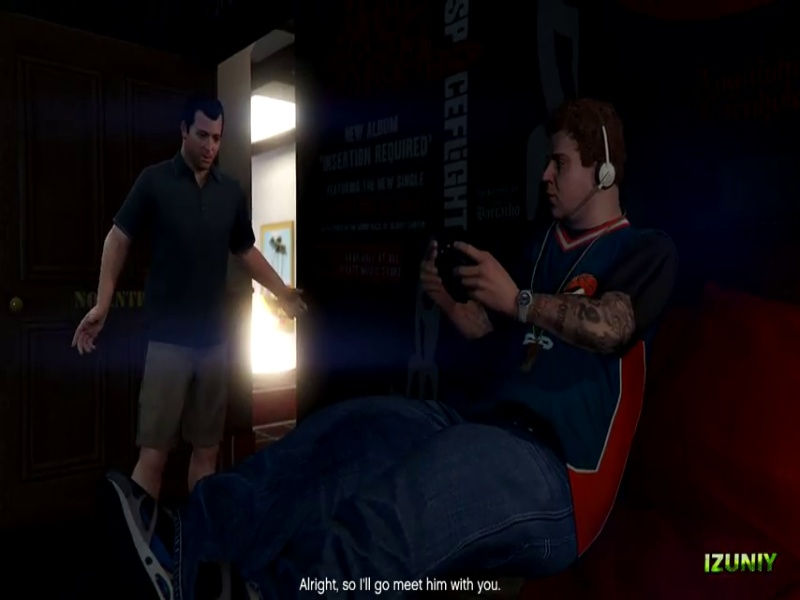licenseplate: (269, 80, 530, 104)
